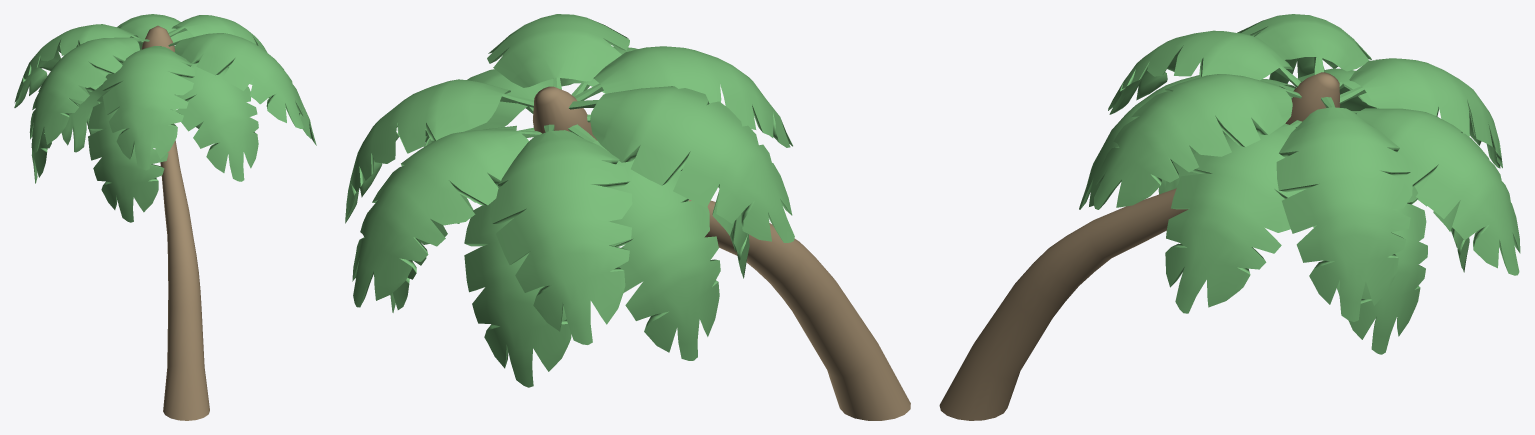
The model's file is Palm_A.fbx.
3 views of the same model, side by side, from view 1: azimuth 30°, elevation 25°; view 2: azimuth 150°, elevation 25°; view 3: azimuth 270°, elevation 25° (orthographic). The views are drawn at different scales.
Visible parts, largest first — view 1: Palm_Trunk_A, Frond2, Frond, Frond1, Frond3, Frond4, Frond5, Frond10, Frond7, Frond8, Frond6, Frond11; view 2: Frond5, Frond3, Frond8, Palm_Trunk_A, Frond6, Frond7, Frond10, Frond2, Frond1, Frond11, Frond4, Frond9; view 3: Frond10, Palm_Trunk_A, Frond11, Frond1, Frond8, Frond5, Frond2, Frond3, Frond9, Frond, Frond6, Frond7 (+1 smaller).
Boxes of the visible parts, x1=… form: Palm_Trunk_A: x1=141, y1=25, x2=209, y2=420; Frond2: x1=102, y1=46, x2=195, y2=170; Frond: x1=174, y1=52, x2=258, y2=181; Frond1: x1=168, y1=33, x2=303, y2=128; Frond3: x1=29, y1=37, x2=149, y2=152; Frond4: x1=88, y1=89, x2=176, y2=222; Frond5: x1=14, y1=24, x2=143, y2=107; Frond10: x1=168, y1=15, x2=269, y2=97; Frond7: x1=61, y1=84, x2=105, y2=152; Frond8: x1=117, y1=14, x2=194, y2=49; Frond6: x1=31, y1=49, x2=141, y2=183; Frond11: x1=228, y1=64, x2=316, y2=145; Frond5: x1=490, y1=124, x2=632, y2=344; Frond3: x1=569, y1=86, x2=794, y2=242; Frond8: x1=352, y1=129, x2=541, y2=307; Palm_Trunk_A: x1=533, y1=86, x2=910, y2=420; Frond6: x1=568, y1=124, x2=720, y2=360; Frond7: x1=464, y1=204, x2=571, y2=387; Frond10: x1=345, y1=79, x2=533, y2=223; Frond2: x1=574, y1=46, x2=792, y2=147; Frond1: x1=487, y1=14, x2=629, y2=89; Frond11: x1=424, y1=69, x2=553, y2=146; Frond4: x1=587, y1=114, x2=749, y2=278; Frond9: x1=390, y1=125, x2=534, y2=312; Frond10: x1=1276, y1=97, x2=1412, y2=321; Palm_Trunk_A: x1=939, y1=72, x2=1340, y2=420; Frond11: x1=1165, y1=120, x2=1305, y2=313; Frond1: x1=1094, y1=74, x2=1301, y2=209; Frond8: x1=1352, y1=108, x2=1520, y2=275; Frond5: x1=1339, y1=58, x2=1502, y2=168; Frond2: x1=1108, y1=30, x2=1301, y2=114; Frond3: x1=1237, y1=14, x2=1371, y2=83; Frond9: x1=1313, y1=186, x2=1427, y2=354; Frond: x1=1079, y1=75, x2=1292, y2=209; Frond6: x1=1297, y1=68, x2=1376, y2=110; Frond7: x1=1415, y1=172, x2=1469, y2=272.
Size of the model in its own units: 7.57 by 7.68 by 9.89.
